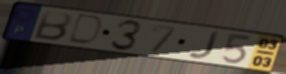3: (109, 19, 143, 52)
5: (220, 32, 255, 65)
7: (149, 23, 178, 55)
B: (30, 9, 73, 42)
D: (65, 13, 106, 48)
J: (186, 30, 222, 60)
